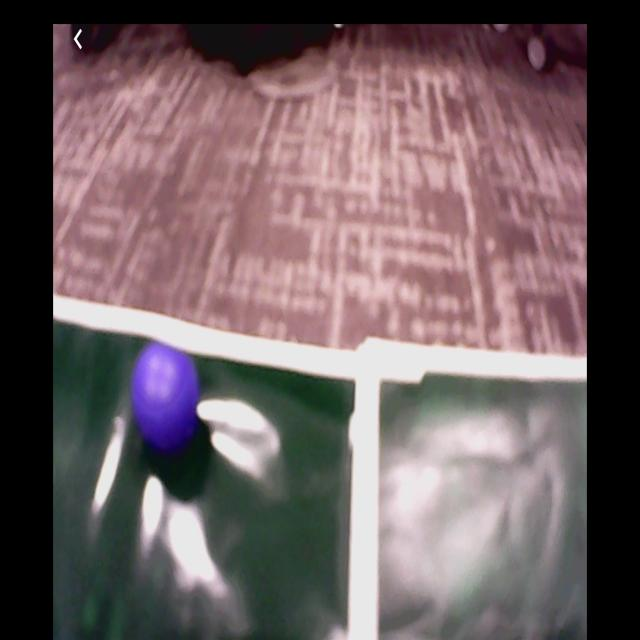ball: (133, 341, 196, 443)
